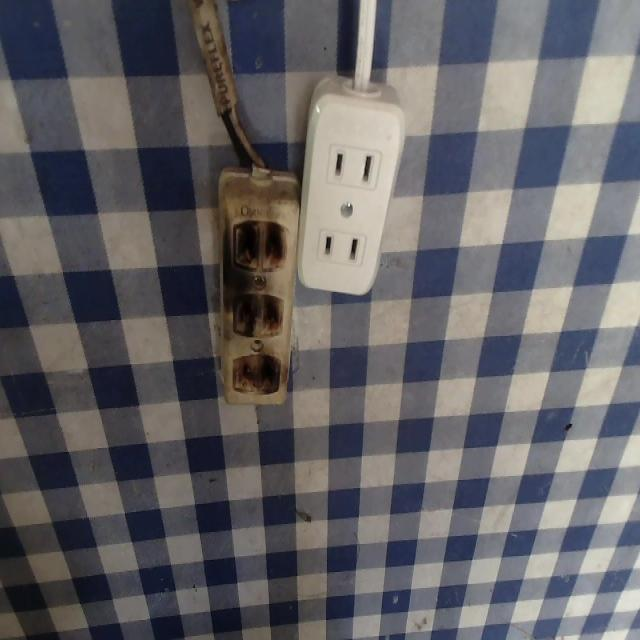-: (228, 213, 286, 284), (228, 344, 288, 399), (228, 285, 283, 343)
